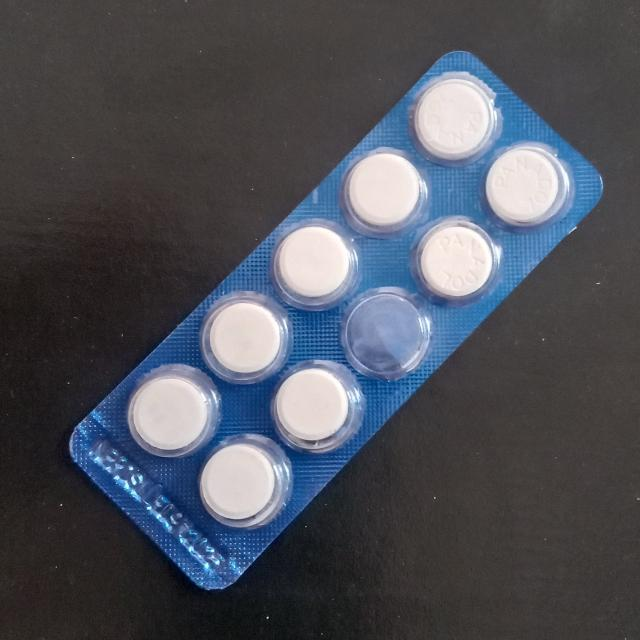defect: (343, 294, 431, 378)
